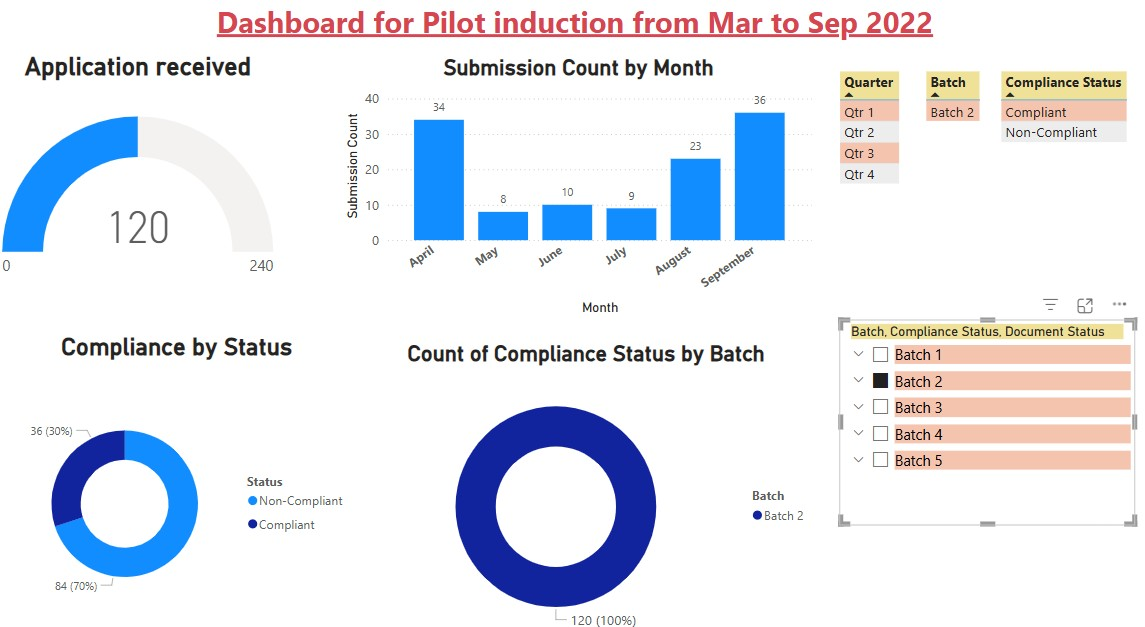

The dashboard page shown, as its layout file describes it:
{"tool":"powerbi","page":{"name":"Page 1","canvas":[1280,720],"ordinal":0},"visuals":[{"type":"donutChart","fields":{"Category":["export?format=csv&id=1RSt7JTLuaaMvQIgaXB1fvxA7Anrv1DO8XRaBTItq9nI&gid=177511 (2).Compliance Status"],"Y":["CountNonNull(export?format=csv&id=1RSt7JTLuaaMvQIgaXB1fvxA7Anrv1DO8XRaBTItq9nI&gid=177511 (2).Compliance Status)"]},"box":[0,373.2,392.5,347.2],"z":0},{"type":"columnChart","fields":{"Category":["export?format=csv&id=1RSt7JTLuaaMvQIgaXB1fvxA7Anrv1DO8XRaBTItq9nI&gid=177511 (2).Submission Date.Variation.Date Hierarch"],"Y":["CountNonNull(export?format=csv&id=1RSt7JTLuaaMvQIgaXB1fvxA7Anrv1DO8XRaBTItq9nI&gid=177511 (2).Submission Date)"]},"box":[376,68.6,522.8,290.9],"z":1000},{"type":"gauge","fields":{"Y":["CountNonNull(export?format=csv&id=1RSt7JTLuaaMvQIgaXB1fvxA7Anrv1DO8XRaBTItq9nI&gid=177511 (2).Submission Date)"]},"box":[0,65.9,307.4,290.9],"z":2000},{"type":"tableEx","fields":{"Values":["export?format=csv&id=1RSt7JTLuaaMvQIgaXB1fvxA7Anrv1DO8XRaBTItq9nI&gid=177511 (2).Compliance Status"]},"box":[1095,82.9,174.3,104.3],"z":3000},{"type":"slicer","fields":{"Values":["export?format=csv&id=1RSt7JTLuaaMvQIgaXB1fvxA7Anrv1DO8XRaBTItq9nI&gid=177511 (2).Batch","export?format=csv&id=1RSt7JTLuaaMvQIgaXB1fvxA7Anrv1DO8XRaBTItq9nI&gid=177511 (2).Compliance Status","export?format=csv&id=1RSt7JTLuaaMvQIgaXB1fvxA7Anrv1DO8XRaBTItq9nI&gid=177511 (2).Aircraft Rating"]},"box":[923.5,359.5,325.2,226.4],"z":4000},{"type":"tableEx","fields":{"Values":["export?format=csv&id=1RSt7JTLuaaMvQIgaXB1fvxA7Anrv1DO8XRaBTItq9nI&gid=177511 (2).Batch"]},"box":[1012.7,82.9,87.8,168.8],"z":5000},{"type":"donutChart","fields":{"Category":["export?format=csv&id=1RSt7JTLuaaMvQIgaXB1fvxA7Anrv1DO8XRaBTItq9nI&gid=177511 (2).Compliance Status"],"Y":["CountNonNull(export?format=csv&id=1RSt7JTLuaaMvQIgaXB1fvxA7Anrv1DO8XRaBTItq9nI&gid=177511 (2).Batch)","CountNonNull(export?format=csv&id=1RSt7JTLuaaMvQIgaXB1fvxA7Anrv1DO8XRaBTItq9nI&gid=177511 (2).Compliance Status)"]},"box":[392.5,382.8,506.3,337.6],"z":6000},{"type":"tableEx","fields":{"Values":["export?format=csv&id=1RSt7JTLuaaMvQIgaXB1fvxA7Anrv1DO8XRaBTItq9nI&gid=177511 (2).Submission Date.Variation.Date Hierarch"]},"box":[918,82.9,94.7,152.3],"z":7000},{"type":"textbox","box":[0,5.5,1274.8,60.4],"z":8000},{"type":"tableEx","fields":{"Values":["export?format=csv&id=1RSt7JTLuaaMvQIgaXB1fvxA7Anrv1DO8XRaBTItq9nI&gid=177511 (2).Aircraft Rating"]},"box":[1100.5,186.6,148.2,152.3],"z":9000},{"type":"actionButton","box":[0,0,100,40],"z":10000}]}

Visuals, with their boxes in screenshot pixels (x1, y1, x2, y2), scaled from the page's 1280x720 canvas onto the 1145x627 screenshot:
donutChart - export?format=csv&id=1RSt7JTLuaaMvQIgaXB1fvxA7Anrv1DO8XRaBTItq9nI&gid=177511 (2).Compliance Status x CountNonNull(export?format=csv&id=1RSt7JTLuaaMvQIgaXB1fvxA7Anrv1DO8XRaBTItq9nI&gid=177511 (2).Compliance Status): [x1=0, y1=325, x2=351, y2=626]
columnChart - export?format=csv&id=1RSt7JTLuaaMvQIgaXB1fvxA7Anrv1DO8XRaBTItq9nI&gid=177511 (2).Submission Date.Variation.Date Hierarch x CountNonNull(export?format=csv&id=1RSt7JTLuaaMvQIgaXB1fvxA7Anrv1DO8XRaBTItq9nI&gid=177511 (2).Submission Date): [x1=336, y1=60, x2=804, y2=313]
gauge - CountNonNull(export?format=csv&id=1RSt7JTLuaaMvQIgaXB1fvxA7Anrv1DO8XRaBTItq9nI&gid=177511 (2).Submission Date): [x1=0, y1=57, x2=275, y2=311]
tableEx - export?format=csv&id=1RSt7JTLuaaMvQIgaXB1fvxA7Anrv1DO8XRaBTItq9nI&gid=177511 (2).Compliance Status: [x1=980, y1=72, x2=1135, y2=163]
slicer - export?format=csv&id=1RSt7JTLuaaMvQIgaXB1fvxA7Anrv1DO8XRaBTItq9nI&gid=177511 (2).Batch x export?format=csv&id=1RSt7JTLuaaMvQIgaXB1fvxA7Anrv1DO8XRaBTItq9nI&gid=177511 (2).Compliance Status: [x1=826, y1=313, x2=1117, y2=510]
tableEx - export?format=csv&id=1RSt7JTLuaaMvQIgaXB1fvxA7Anrv1DO8XRaBTItq9nI&gid=177511 (2).Batch: [x1=906, y1=72, x2=984, y2=219]
donutChart - export?format=csv&id=1RSt7JTLuaaMvQIgaXB1fvxA7Anrv1DO8XRaBTItq9nI&gid=177511 (2).Compliance Status x CountNonNull(export?format=csv&id=1RSt7JTLuaaMvQIgaXB1fvxA7Anrv1DO8XRaBTItq9nI&gid=177511 (2).Batch): [x1=351, y1=333, x2=804, y2=626]
tableEx - export?format=csv&id=1RSt7JTLuaaMvQIgaXB1fvxA7Anrv1DO8XRaBTItq9nI&gid=177511 (2).Submission Date.Variation.Date Hierarch: [x1=821, y1=72, x2=906, y2=205]
textbox: [x1=0, y1=5, x2=1140, y2=57]
tableEx - export?format=csv&id=1RSt7JTLuaaMvQIgaXB1fvxA7Anrv1DO8XRaBTItq9nI&gid=177511 (2).Aircraft Rating: [x1=984, y1=162, x2=1117, y2=295]
actionButton: [x1=0, y1=0, x2=89, y2=35]
